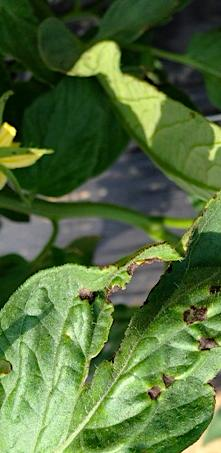Tomato leaf bacterial spot: (0, 139, 221, 453)
